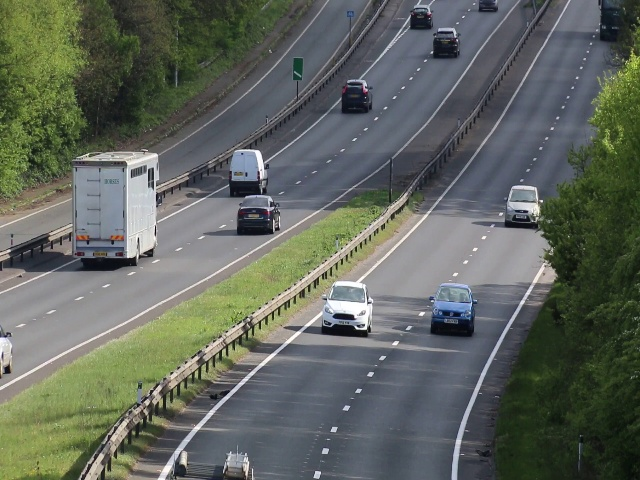car: (68, 154, 166, 266), (323, 279, 373, 337), (431, 281, 475, 335), (226, 145, 272, 195), (236, 192, 284, 236), (505, 184, 540, 228), (340, 77, 375, 110), (431, 26, 461, 55), (409, 6, 432, 29)
